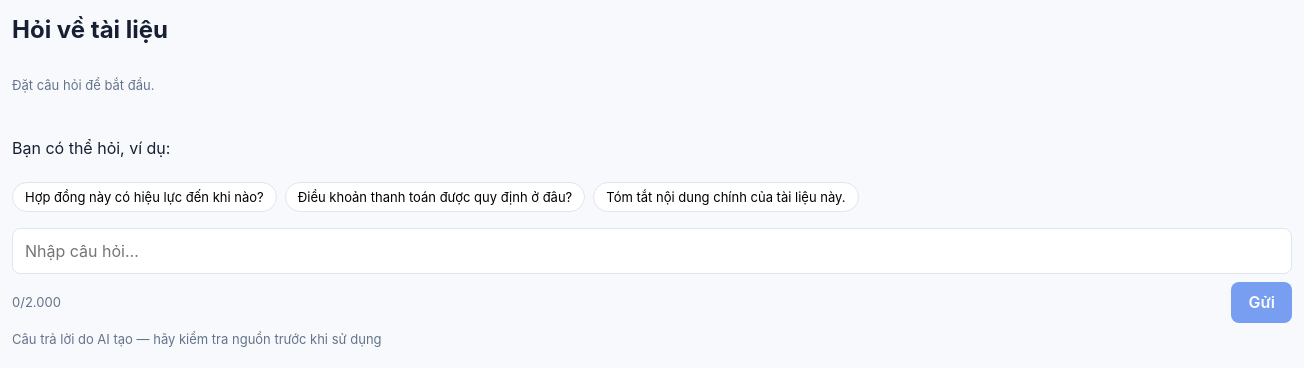
Test: ChatPage › T-402: tắt citation_page_numbers → chip chỉ hiện tên tệp, không có 'tr.'
Type "Câu hỏi có trích dẫn trang" into the text box with test id "question-input" at (652, 251), box [12,228,1292,274]
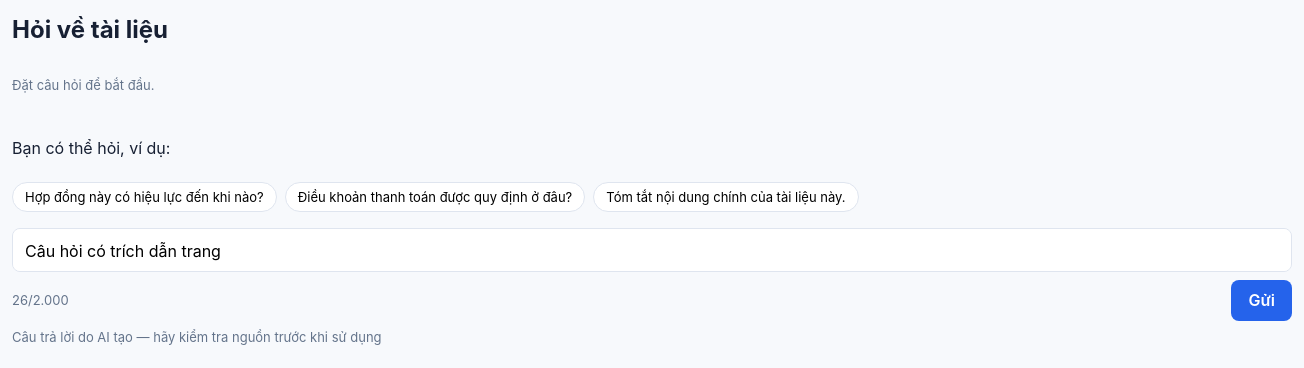
Click the button with test id "send-button" at (1262, 300), box [1232,280,1292,321]
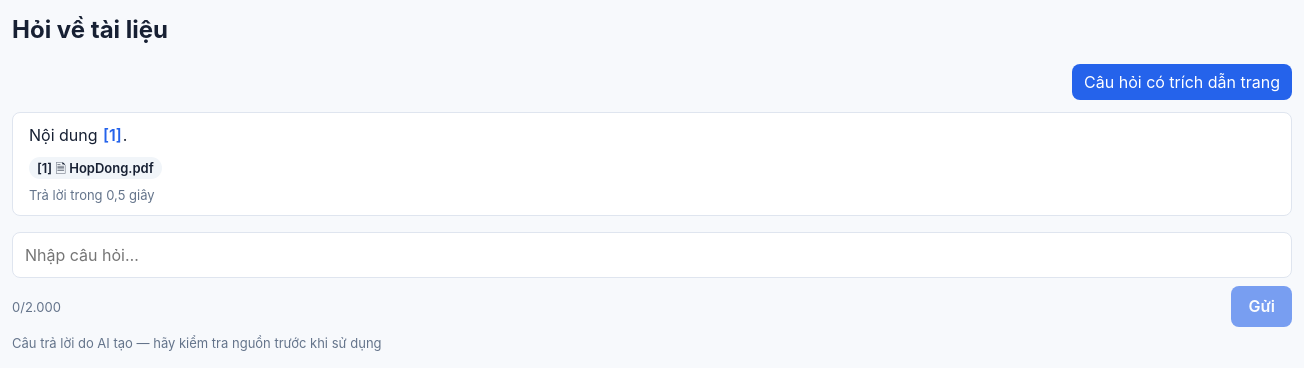
Expected: the button with test id "citation-chip" does not show "tr.", [29,157,162,179]
Expected: the button with test id "citation-chip" shows "HopDong.pdf", [29,157,162,179]
